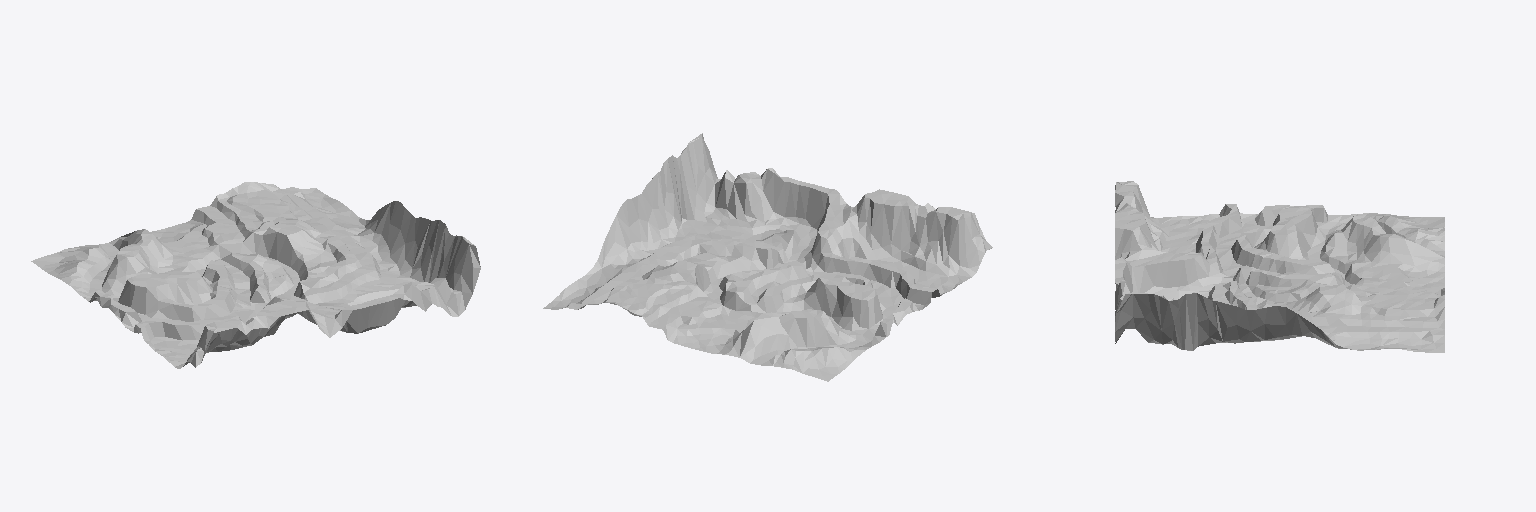
File: foxden.obj
3 renders of one model, left to right at view 1: azimuth 30°, elevation 25°; view 2: azimuth 150°, elevation 25°; view 3: azimuth 270°, elevation 25°, orthographic.
Visible parts, largest first — view 1: 1.013; view 2: 1.013; view 3: 1.013.
Part boxes in pixels (x1,y1,x2,y2): 1.013: (31, 182, 480, 368); 1.013: (543, 133, 992, 381); 1.013: (1115, 181, 1444, 352).
Bounding box in the file's own units: 100 × 21.54 × 100.